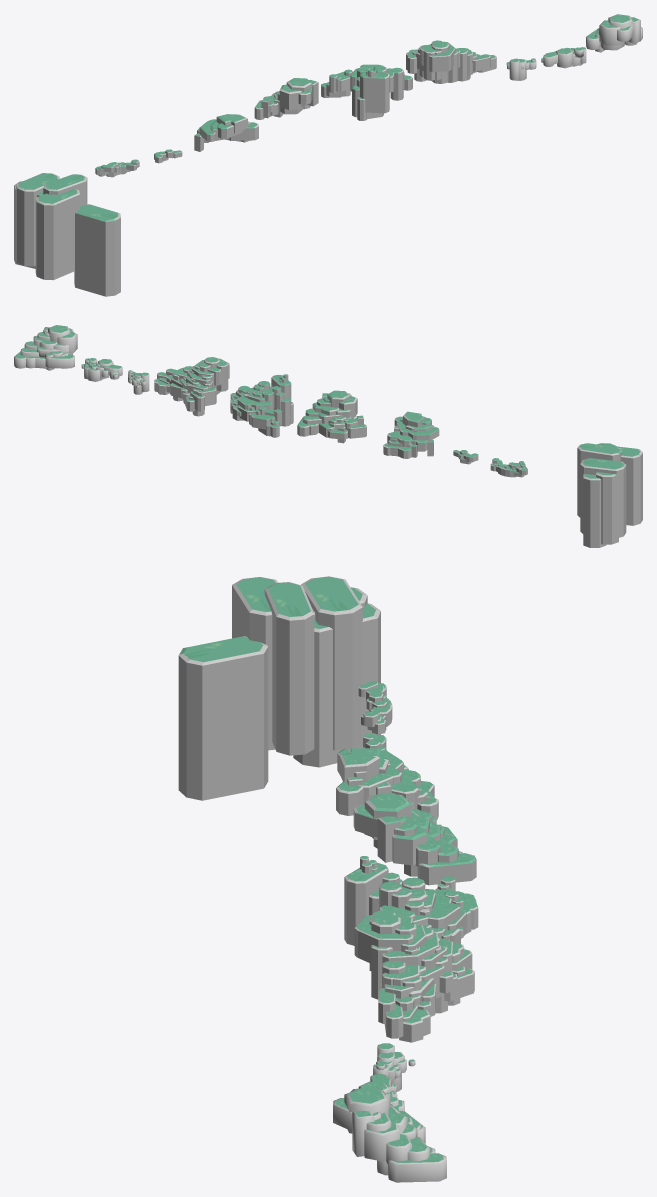
The model's file is Rock_Modules.fbx.
The picture shows the model from 3 angles, top to bottom: view 1: azimuth 30°, elevation 25°; view 2: azimuth 150°, elevation 25°; view 3: azimuth 270°, elevation 25°; orthographic projection. The views are drawn at different scales.
Parts seen in each view (by area): view 1: Module10_Side, Module5_Side, Module4_Side, Module6_Side, Module10_upper, Module1_Side, Module7_Side, Module2_Side, Module5_upper, Module4_upper, Module3_Side, Module7_upper; view 2: Module10_Side, Module4_Side, Module5_Side, Module6_Side, Module1_Side, Module7_Side, Module10_upper, Module4_upper, Module5_upper, Module6_upper, Module7_upper, Module1_upper (+5 smaller); view 3: Module10_Side, Module4_Side, Module1_Side, Module10_upper, Module5_Side, Module6_Side, Module4_upper, Module7_Side, Module5_upper, Module6_upper, Module7_upper, Module1_upper (+2 smaller).
Part boxes in pixels (x1,y1,x2,y2): Module10_Side: (14,173,120,296); Module5_Side: (321,65,412,120); Module4_Side: (406,41,496,83); Module6_Side: (254,78,318,119); Module10_upper: (18,173,118,220); Module1_Side: (586,14,642,52); Module7_Side: (194,114,258,151); Module2_Side: (541,48,586,68); Module5_upper: (322,64,411,99); Module4_upper: (407,40,495,60); Module3_Side: (506,59,536,80); Module7_upper: (196,114,256,136); Module10_Side: (577,443,642,547); Module4_Side: (154,358,229,416); Module5_Side: (230,374,293,437); Module6_Side: (297,391,366,443); Module1_Side: (14,325,77,370); Module7_Side: (383,411,439,458); Module10_upper: (580,443,640,478); Module4_upper: (155,357,228,401); Module5_upper: (231,374,292,427); Module6_upper: (298,390,365,432); Module7_upper: (385,411,437,449); Module1_upper: (15,325,75,358); Module10_Side: (178,576,380,800); Module4_Side: (354,913,474,1042); Module1_Side: (333,1087,446,1182); Module10_upper: (183,577,375,662); Module5_Side: (344,857,478,945); Module6_Side: (353,792,476,885); Module4_upper: (356,910,472,1023); Module7_Side: (336,748,438,819); Module5_upper: (347,856,476,935); Module6_upper: (356,792,473,865); Module7_upper: (339,748,435,804); Module1_upper: (336,1087,443,1162).
Size of the model in its own units: 81134 by 13902 by 18051.
